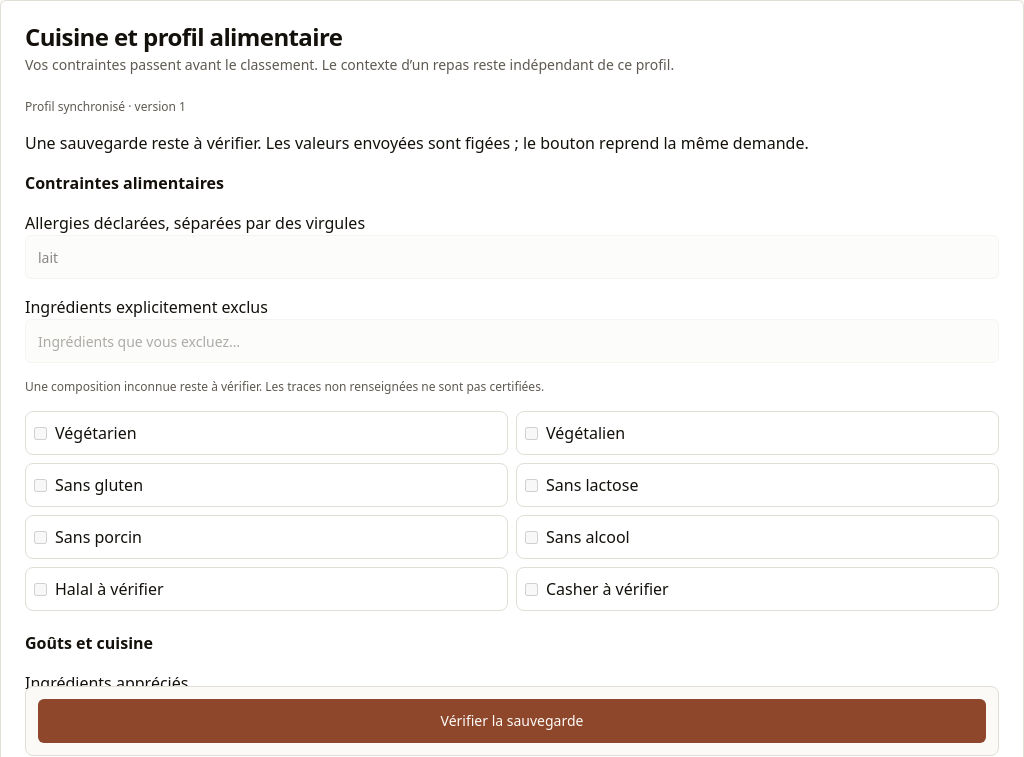
Test: pending save freezes original values and resumes the same intent without editing
Expected: the field labelled "Allergies déclarées, séparées par des virgules" is disabled, [25, 235, 999, 279]
Click the button "Vérifier la sauvegarde" at (512, 721), box [38, 699, 986, 743]
(page scrolled)
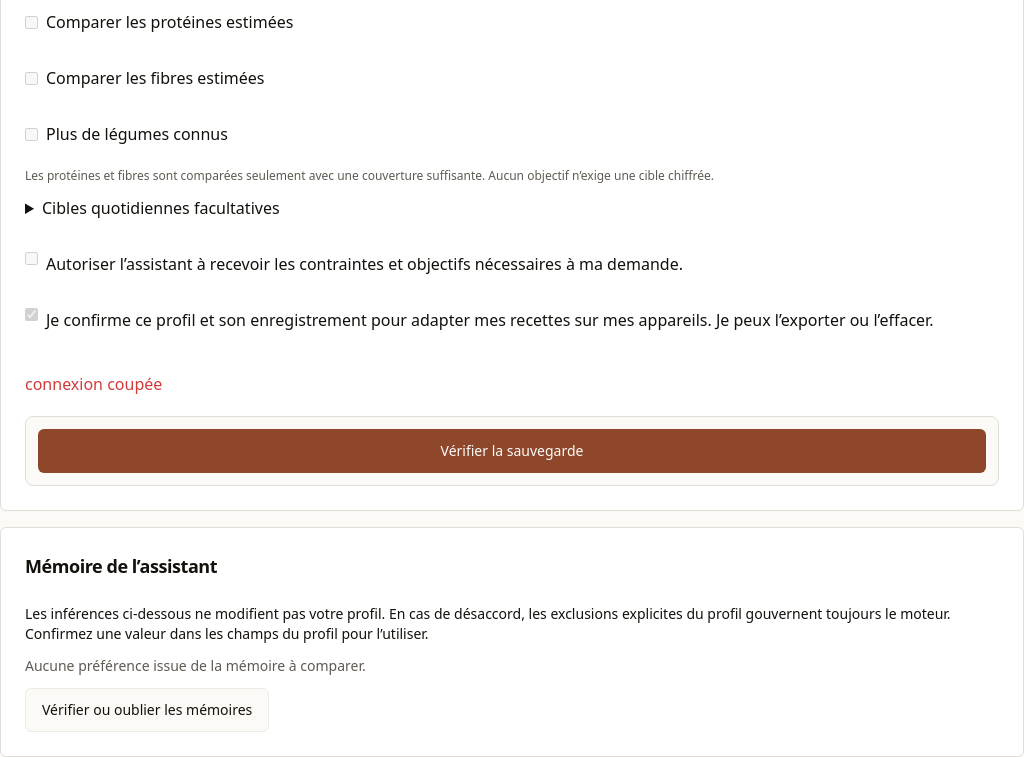
Expected: the message "connexion coupée" is shown, [25, 373, 162, 395]
